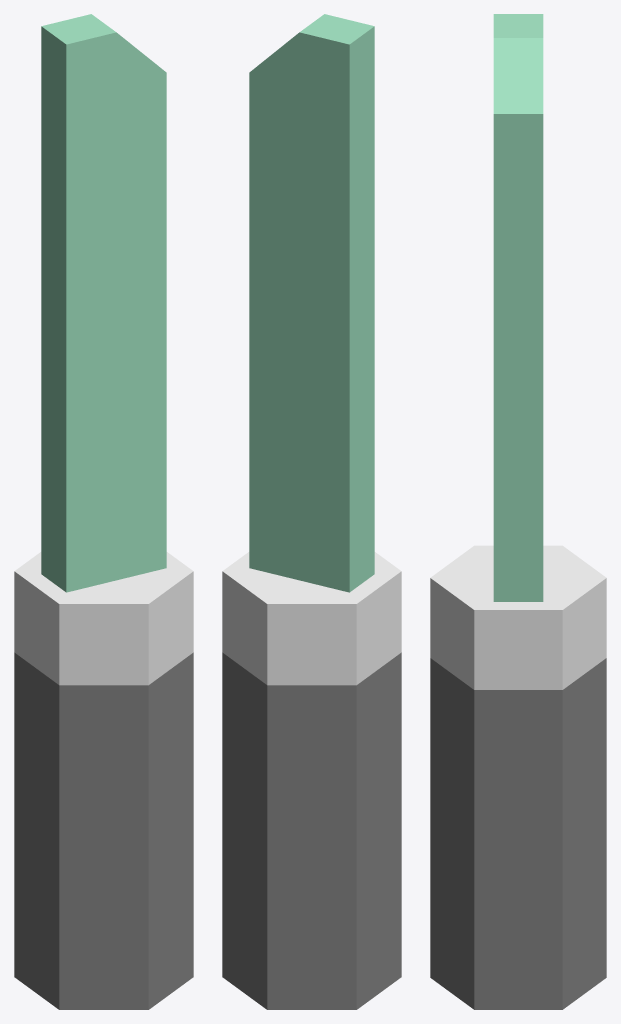
The model's file is laserSabel.glb.
3 views of the same model, side by side, from view 1: azimuth 30°, elevation 25°; view 2: azimuth 150°, elevation 25°; view 3: azimuth 270°, elevation 25° (orthographic).
Parts seen in each view (by area): view 1: laserSabel; view 2: laserSabel; view 3: laserSabel.
Boxes of the visible parts, left/top/right/bottom form: laserSabel: left=14, top=14, right=193, bottom=1009; laserSabel: left=222, top=14, right=401, bottom=1009; laserSabel: left=430, top=14, right=606, bottom=1009.
Size of the model in its own units: 0.6928 by 4.7 by 0.8.
